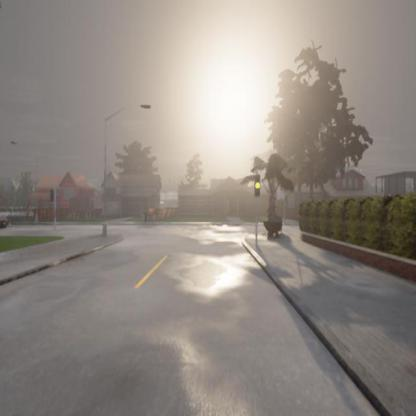traffic_light_orange: (255, 174, 260, 197)
